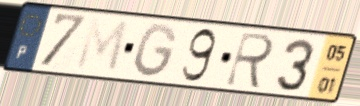3: (274, 36, 317, 93)
7: (37, 11, 90, 70)
9: (180, 26, 218, 84)
G: (132, 21, 180, 81)
M: (73, 16, 131, 76)
R: (222, 30, 277, 92)
